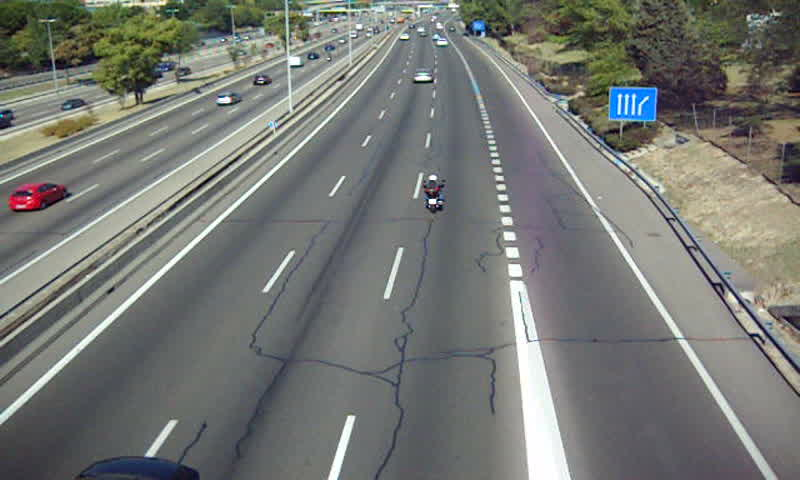car: (410, 70, 433, 86)
motorcycle: (421, 174, 447, 214)
